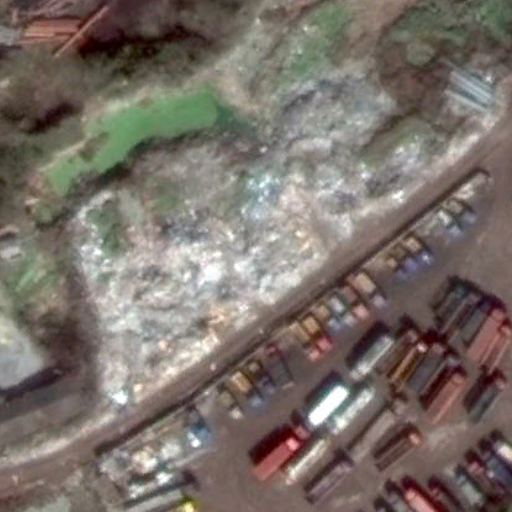msw: (81, 63, 437, 404)
